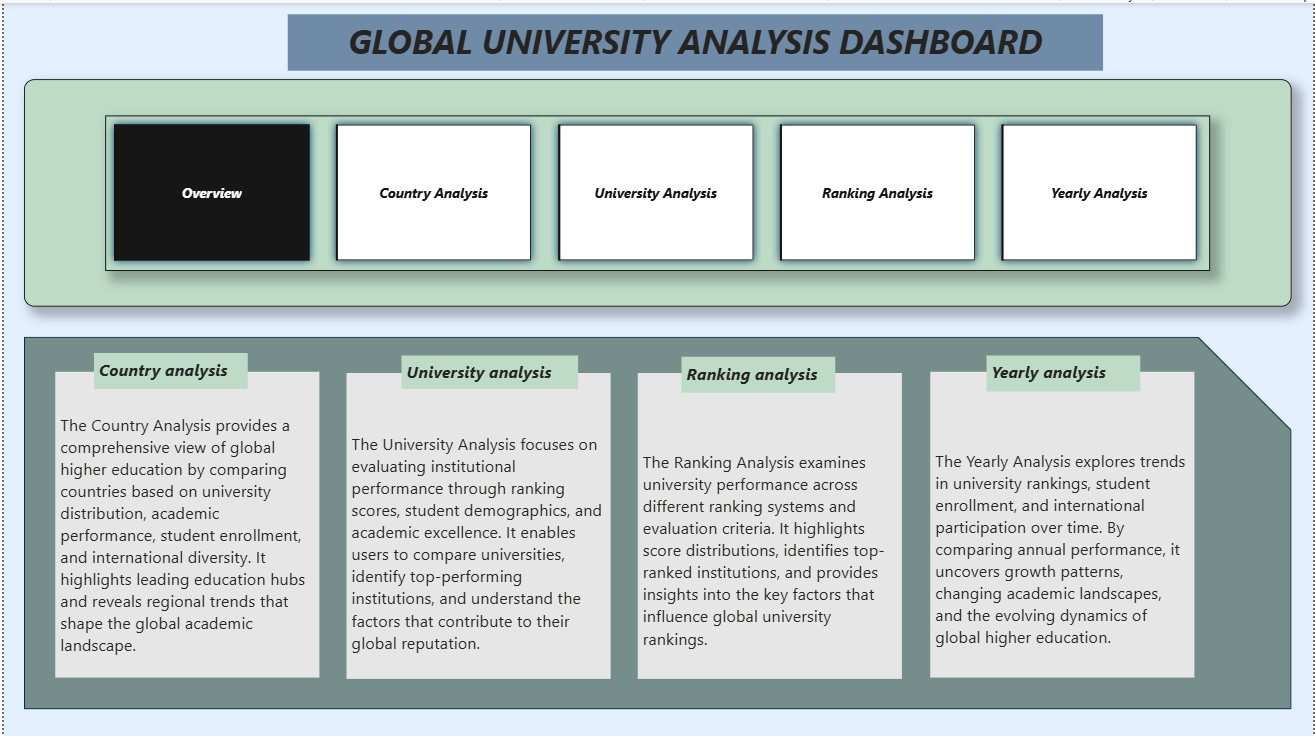

What the dashboard file says about the page in this screenshot:
{"tool":"powerbi","page":{"name":"Overview","canvas":[1280,720],"ordinal":0},"visuals":[{"type":"textbox","box":[277.6,11,797.3,55],"z":0},{"type":"pageNavigator","box":[19.6,74.6,1240,222.6],"z":1000},{"type":"pageNavigator","box":[99,110.1,1081,151.6],"z":2000},{"type":"shape","box":[19.6,326.5,1240,364.4],"z":2001},{"type":"textbox","box":[50.1,360.7,258,299.6],"z":2002},{"type":"textbox","box":[335.1,362,258,299.6],"z":2003},{"type":"textbox","box":[620,362,258,299.6],"z":2004},{"type":"textbox","box":[906.1,360.7,258,299.6],"z":2005},{"type":"textbox","box":[88,342.4,150.4,35.5],"z":2006},{"type":"textbox","box":[388.9,344.8,172.4,33],"z":2007},{"type":"textbox","box":[662.8,346.1,150.4,35.5],"z":2008},{"type":"textbox","box":[961.1,344.8,150.4,35.5],"z":2009}]}

Visuals, with their boxes in screenshot pixels (x1, y1, x2, y2), scaled from the page's 1280x720 canvas onto the 1315x736 screenshot:
textbox: Rect(285, 11, 1104, 67)
pageNavigator: Rect(20, 76, 1294, 304)
pageNavigator: Rect(102, 113, 1212, 268)
shape: Rect(20, 334, 1294, 706)
textbox: Rect(51, 369, 317, 675)
textbox: Rect(344, 370, 609, 676)
textbox: Rect(637, 370, 902, 676)
textbox: Rect(931, 369, 1196, 675)
textbox: Rect(90, 350, 245, 386)
textbox: Rect(400, 352, 577, 386)
textbox: Rect(681, 354, 835, 390)
textbox: Rect(987, 352, 1142, 389)
